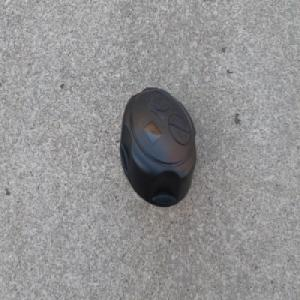FuelCap: (118, 85, 198, 208)
